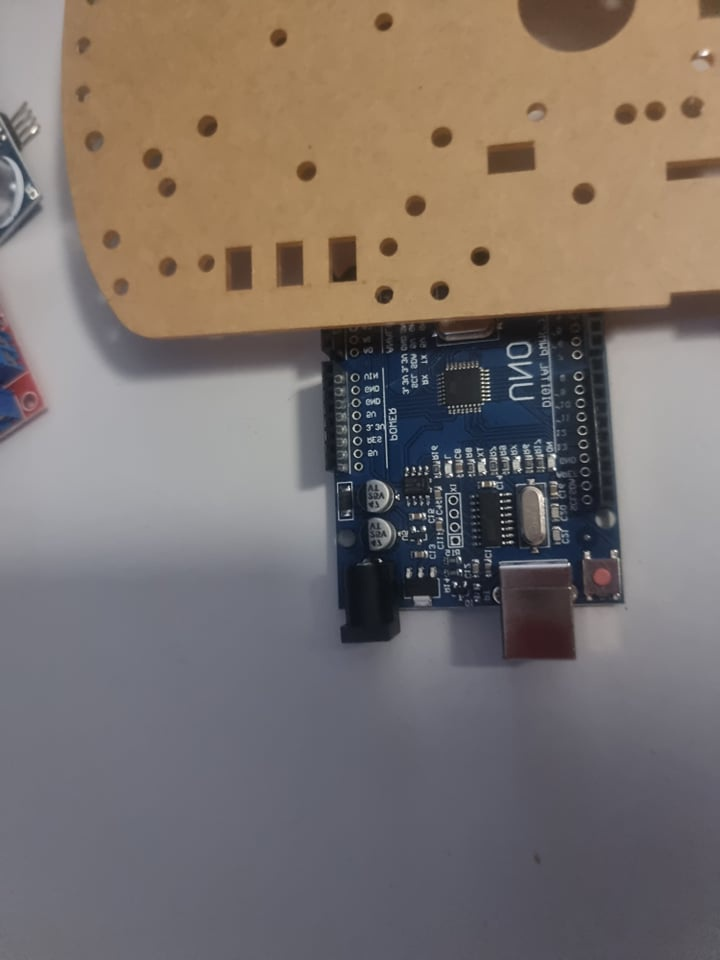UNO R3: (312, 317, 637, 662)
